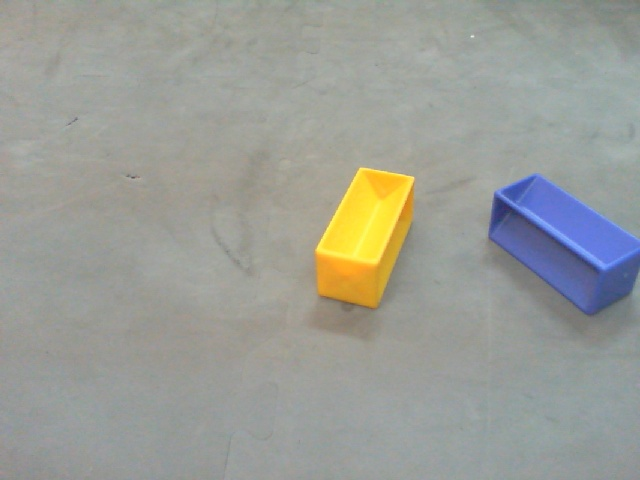BlueSample: (485, 172, 640, 323)
YellowSample: (309, 164, 422, 311)
